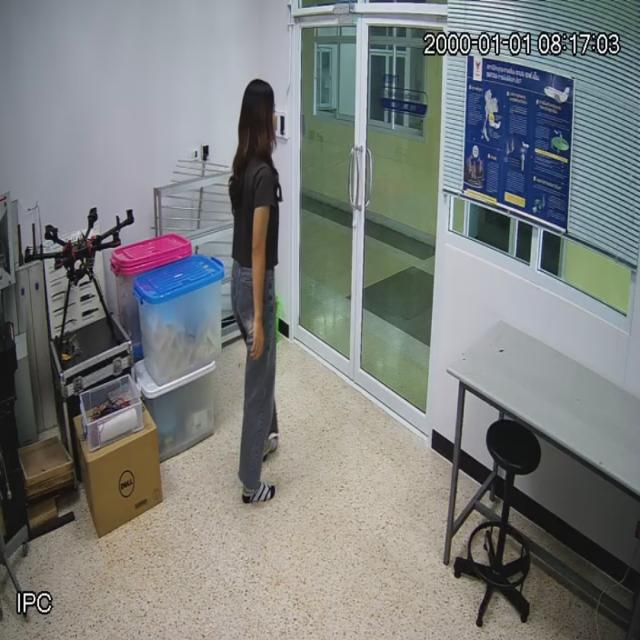normal: (222, 75, 289, 505)
